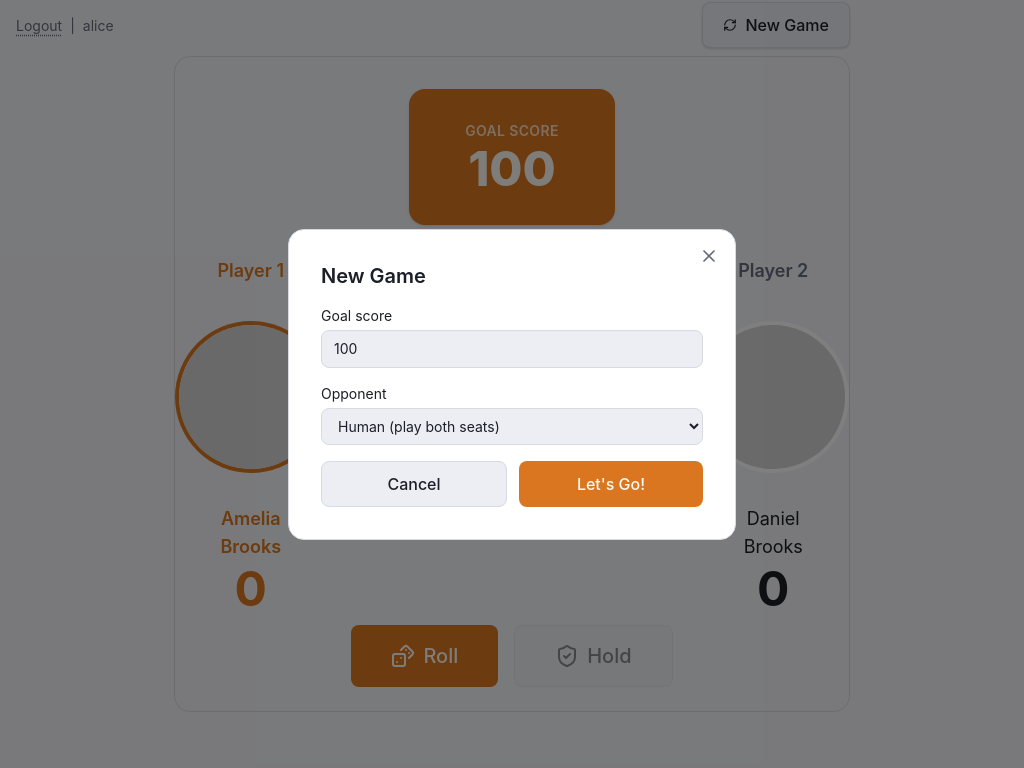
Test: GamePage › AI turn loop (§8, §9) › should pause the AI auto-turn loop while the New Game modal is open
Step 1. Click the button "Cancel" → (414, 484), box [321,460,507,506]
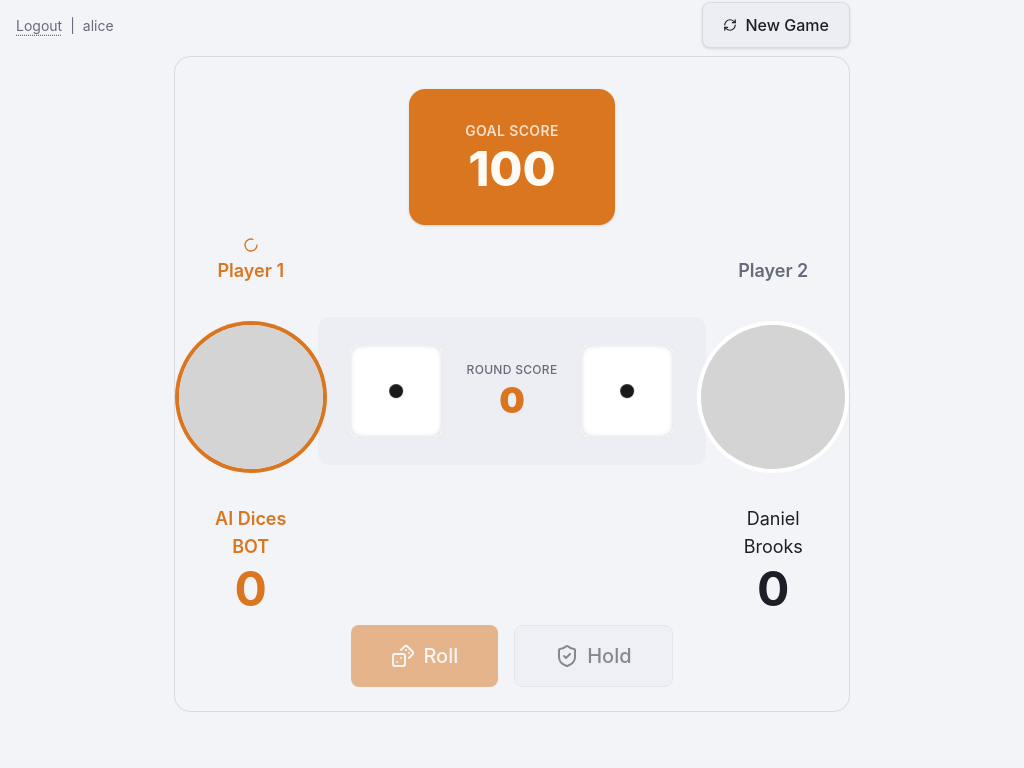
Step 2. Click the button "New Game" → (776, 25), box [702,2,850,48]
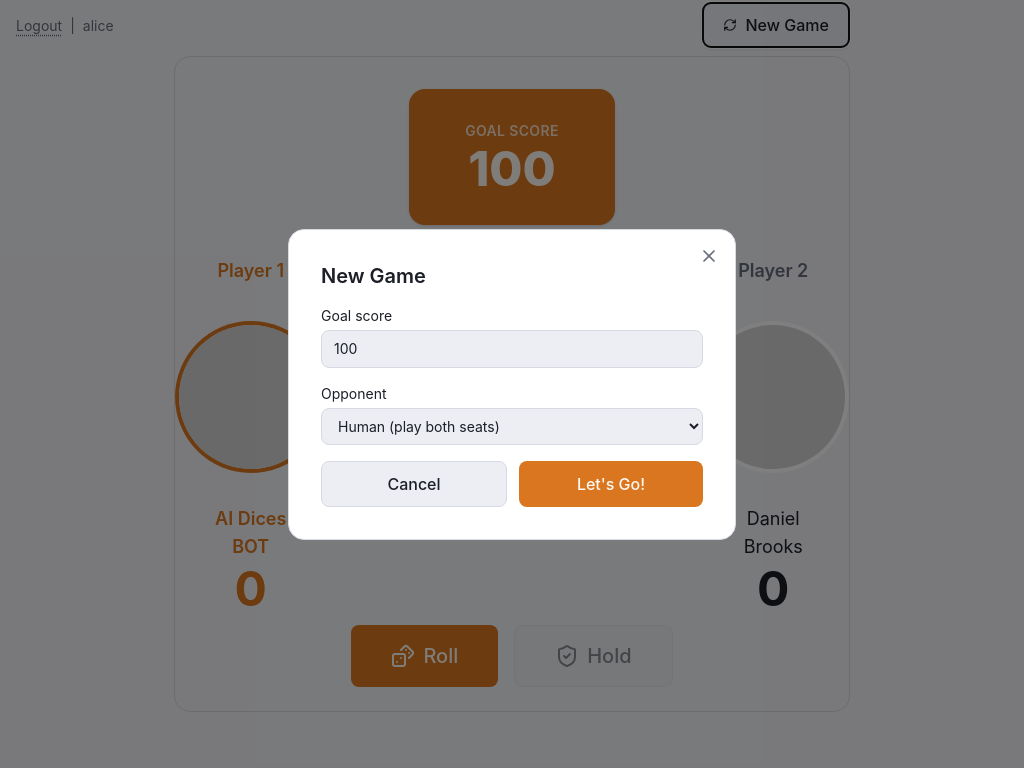
Check: the heading "New Game" is shown, box [321,264,426,288]
Check: the button "Let's Go!" is enabled, box [519,460,703,506]
